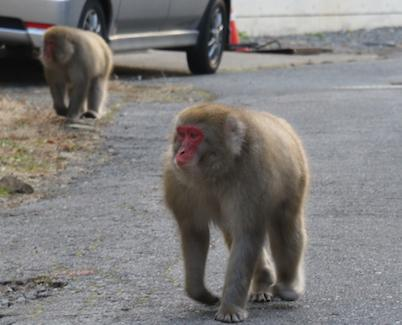monkey: (162, 103, 312, 324)
